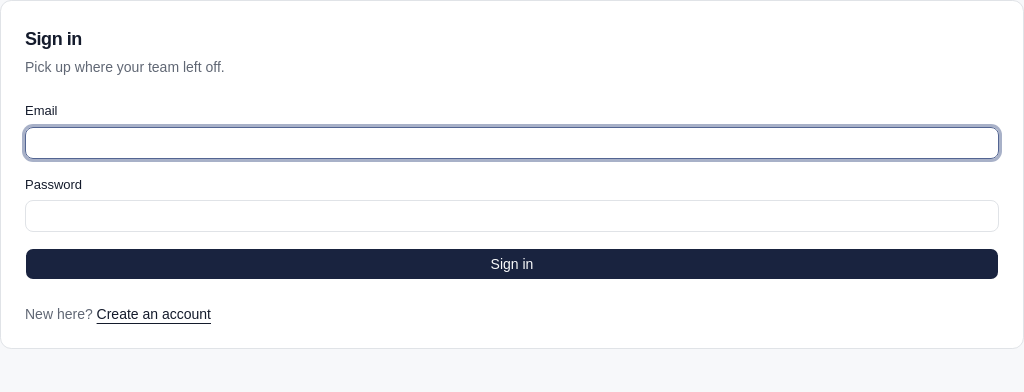
Test: LoginPage › shows Laravel's field error beside the input
The image size is (1024, 392).
In the field labelled "Email": (512,142) [25, 126, 999, 158], type "alice@example.com"
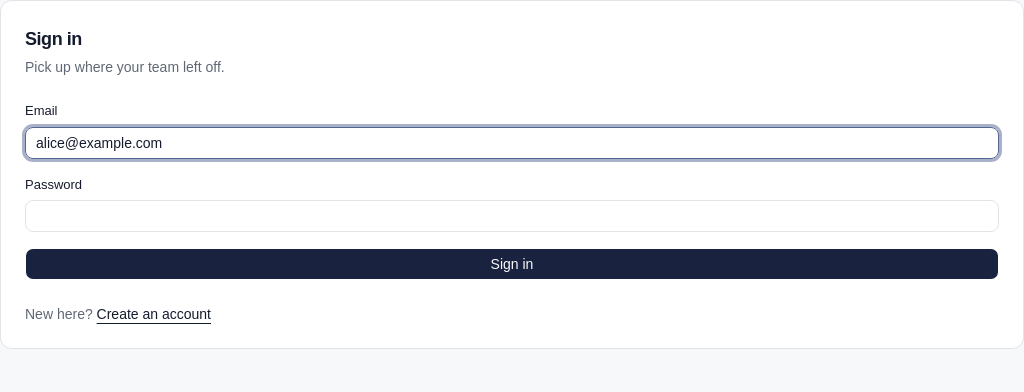
In the password field labelled "Password": (512,216) [25, 200, 999, 232], type "wrong-password"
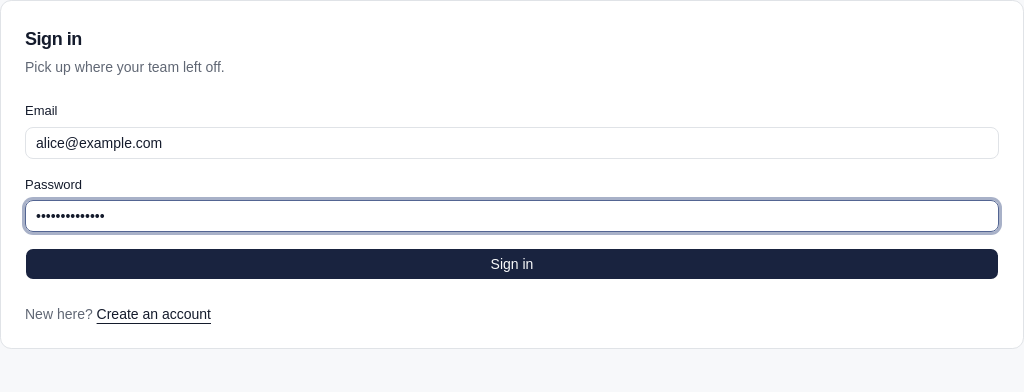
Click the button "Sign in": (512,264) [25, 248, 999, 280]
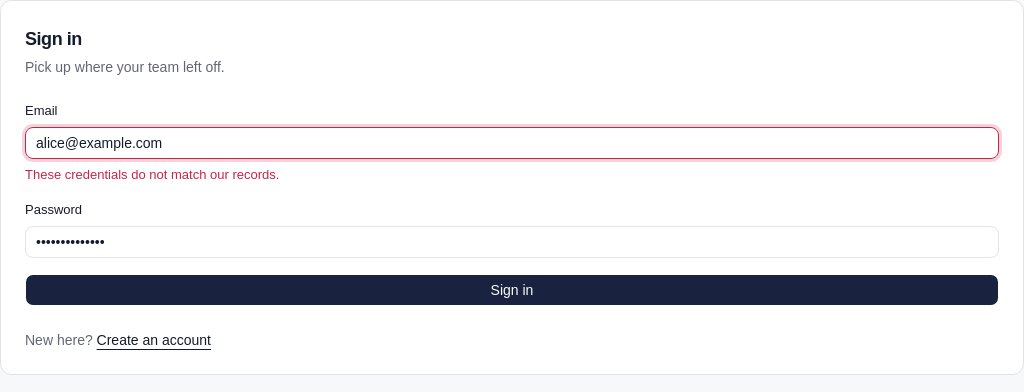
Now the text "These credentials do not match our records." is shown, box [25, 166, 279, 182]
